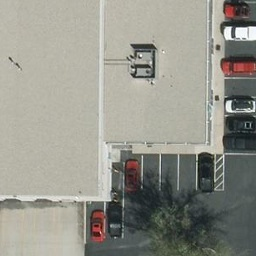car: (223, 22, 256, 41), (197, 154, 213, 192), (107, 204, 124, 239), (223, 134, 256, 152), (223, 116, 256, 134), (223, 96, 256, 114), (223, 58, 256, 76), (89, 210, 105, 242), (124, 159, 139, 191)
